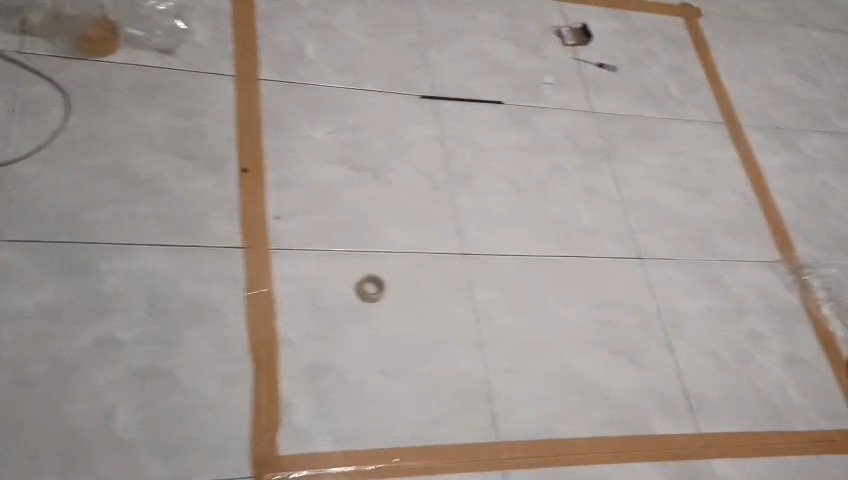floor marking: (233, 0, 847, 479), (561, 0, 847, 399)
